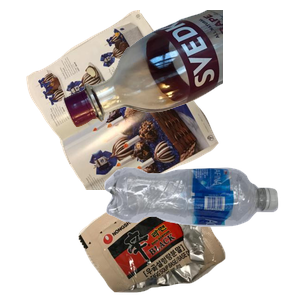glass: (60, 10, 300, 130)
paper: (24, 10, 235, 190)
plastic: (102, 165, 300, 300)
trash: (76, 170, 300, 300)
